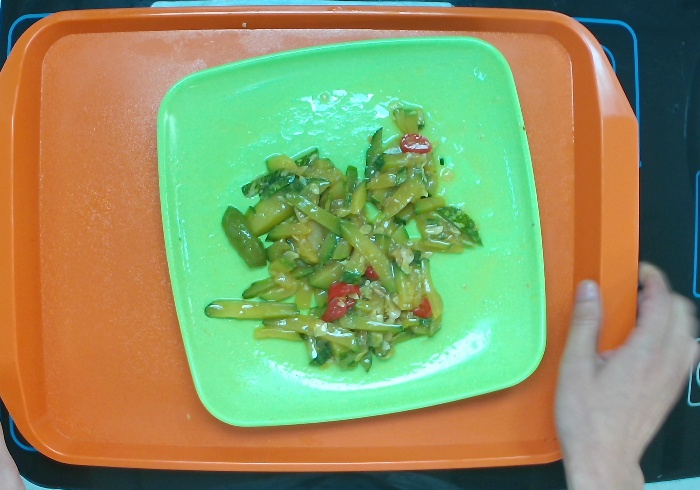ZNLD-Lv_Fang_Pan: (142, 31, 567, 443)
